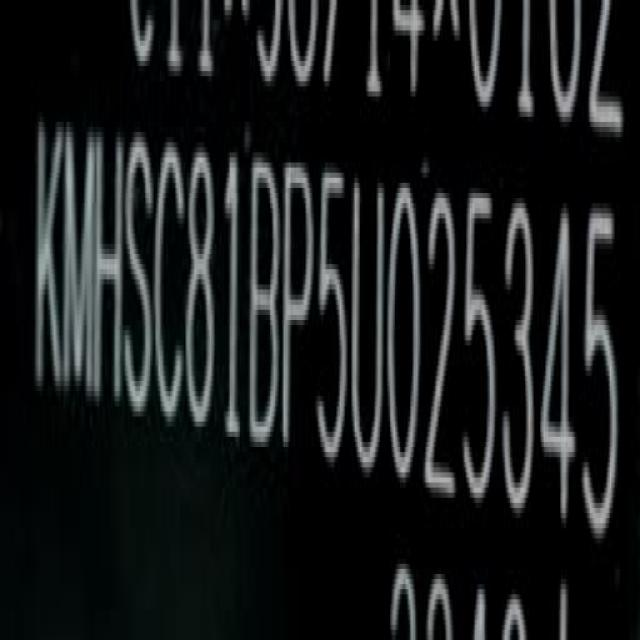0: (391, 185, 424, 494)
1: (221, 152, 245, 450)
2: (426, 187, 459, 505)
3: (504, 200, 536, 526)
4: (540, 202, 578, 535)
5: (585, 208, 623, 545), (463, 191, 498, 513), (317, 169, 349, 473)
8: (187, 144, 217, 438)
B: (249, 154, 282, 456)
C: (156, 128, 187, 431)
H: (93, 122, 126, 410)
K: (34, 111, 62, 412)
M: (54, 115, 95, 412)
P: (284, 158, 317, 468)
S: (125, 126, 154, 431)
U: (353, 172, 386, 485)
